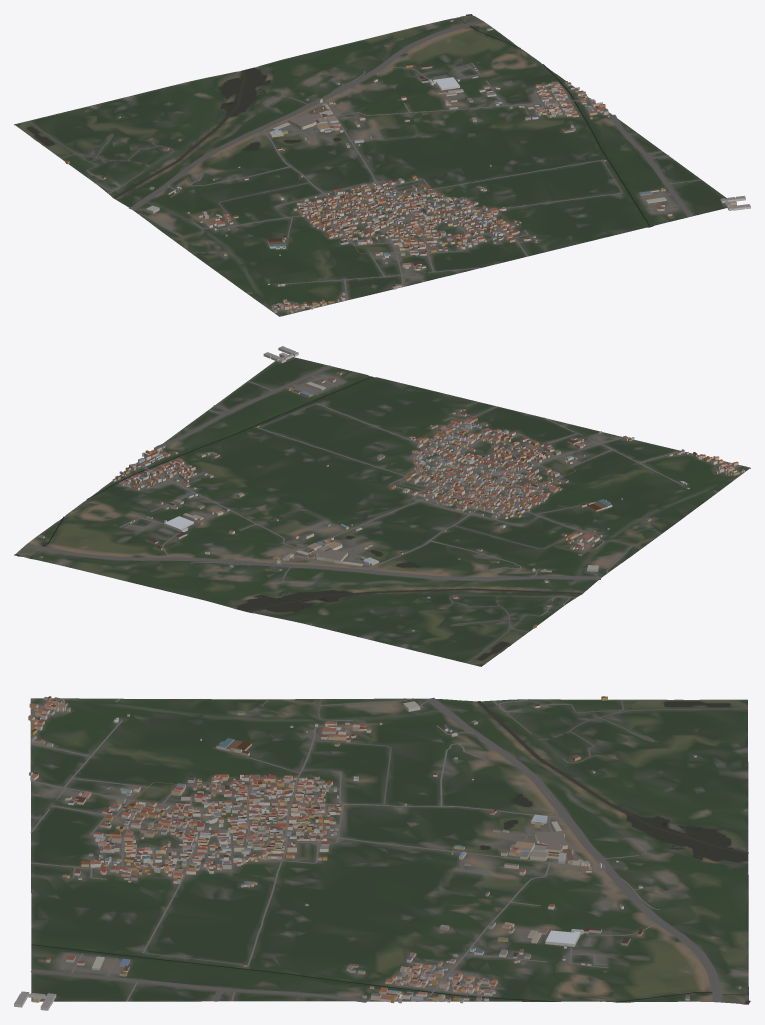
3 views of the same model, one above another, from view 1: azimuth 30°, elevation 25°; view 2: azimuth 150°, elevation 25°; view 3: azimuth 270°, elevation 25° (orthographic). The views are drawn at different scales.
Visible parts, largest first — view 1: ground, buildings, roads, water; view 2: ground, buildings, roads, water; view 3: ground, buildings, roads, water.
Boxes of the visible parts, x1,y1,x2,y2 form: ground: (14, 15, 736, 316); buildings: (65, 19, 750, 313); roads: (27, 20, 701, 314); water: (26, 14, 650, 226); ground: (14, 357, 750, 666); buildings: (38, 346, 744, 631); roads: (24, 365, 742, 663); water: (14, 376, 582, 660); ground: (30, 698, 748, 1004); buildings: (14, 696, 741, 1010); roads: (30, 697, 748, 1002); water: (31, 701, 750, 1004).
Size of the model in its own units: 1446 by 22.12 by 1440.
